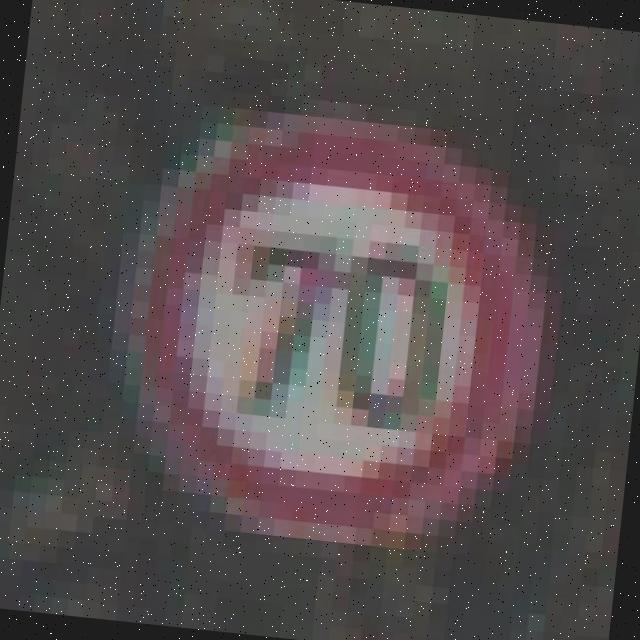Ograniczenie predkosci do 70: (118, 106, 552, 560)
